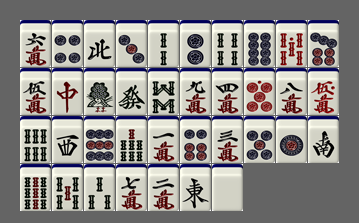0m: (308, 68, 339, 115)
0p: (244, 68, 275, 115)
0s: (276, 20, 307, 67)
1m: (148, 116, 179, 163)
1p: (276, 116, 307, 163)
1s: (84, 68, 115, 115)
1z: (180, 164, 211, 211)
2m: (148, 164, 179, 211)
2p: (180, 20, 211, 67)
2s: (148, 20, 179, 67)
2z: (308, 116, 339, 163)
3m: (212, 116, 243, 163)
3p: (116, 20, 147, 67)
3s: (84, 164, 115, 211)
3z: (52, 116, 83, 163)
4m: (212, 68, 243, 115)
4p: (52, 20, 83, 67)
4s: (212, 20, 243, 67)
4z: (84, 20, 115, 67)
5m: (20, 68, 51, 115)
5p: (244, 116, 275, 163)
5s: (52, 164, 83, 211)
5z: (212, 164, 243, 211)
6m: (20, 20, 51, 67)
6p: (180, 116, 211, 163)
6s: (20, 116, 51, 163)
6z: (116, 68, 147, 115)
7m: (116, 164, 147, 211)
7p: (308, 20, 339, 67)
7s: (116, 116, 147, 163)
7z: (52, 68, 83, 115)
8m: (276, 68, 307, 115)
8p: (244, 20, 275, 67)
8s: (148, 68, 179, 115)
9m: (180, 68, 211, 115)
9p: (84, 116, 115, 163)
9s: (20, 164, 51, 211)
